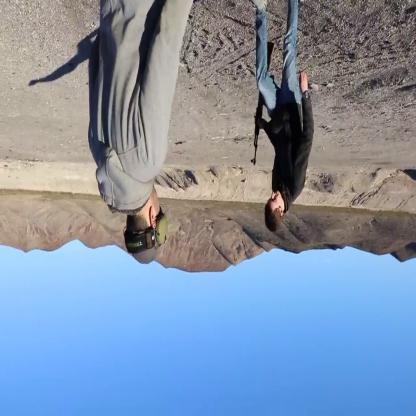long weapon: (241, 42, 279, 168)
